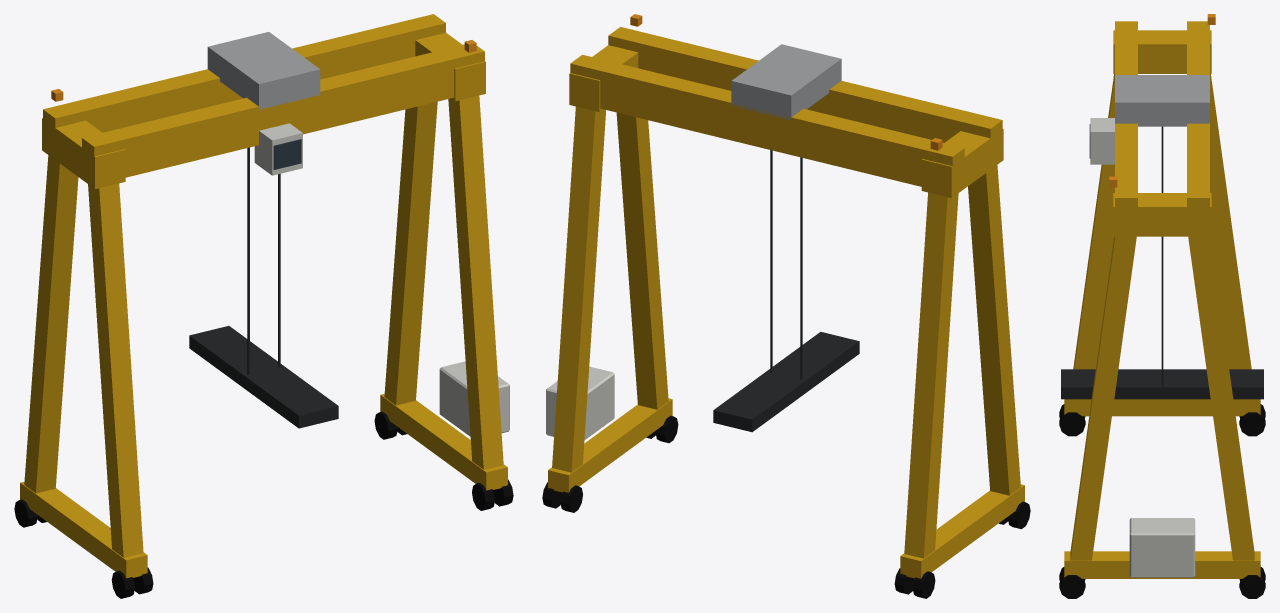
The model's file is portique_rtg.glb.
The picture shows the model from 3 angles, left to right: view 1: azimuth 30°, elevation 25°; view 2: azimuth 150°, elevation 25°; view 3: azimuth 270°, elevation 25°; orthographic projection. The views are drawn at different scales.
Parts seen in each view (by area): view 1: portique_rtg, chariot; view 2: portique_rtg, chariot; view 3: portique_rtg, chariot.
Part boxes in pixels (box(x1,y1,x2,y2)): portique_rtg: box(14, 14, 513, 598); chariot: box(189, 32, 338, 428); portique_rtg: box(542, 14, 1030, 598); chariot: box(713, 44, 859, 432); portique_rtg: box(1059, 14, 1265, 598); chariot: box(1061, 75, 1263, 399).
Bounding box in the file's own units: 27.7 × 28.46 × 12.6.
